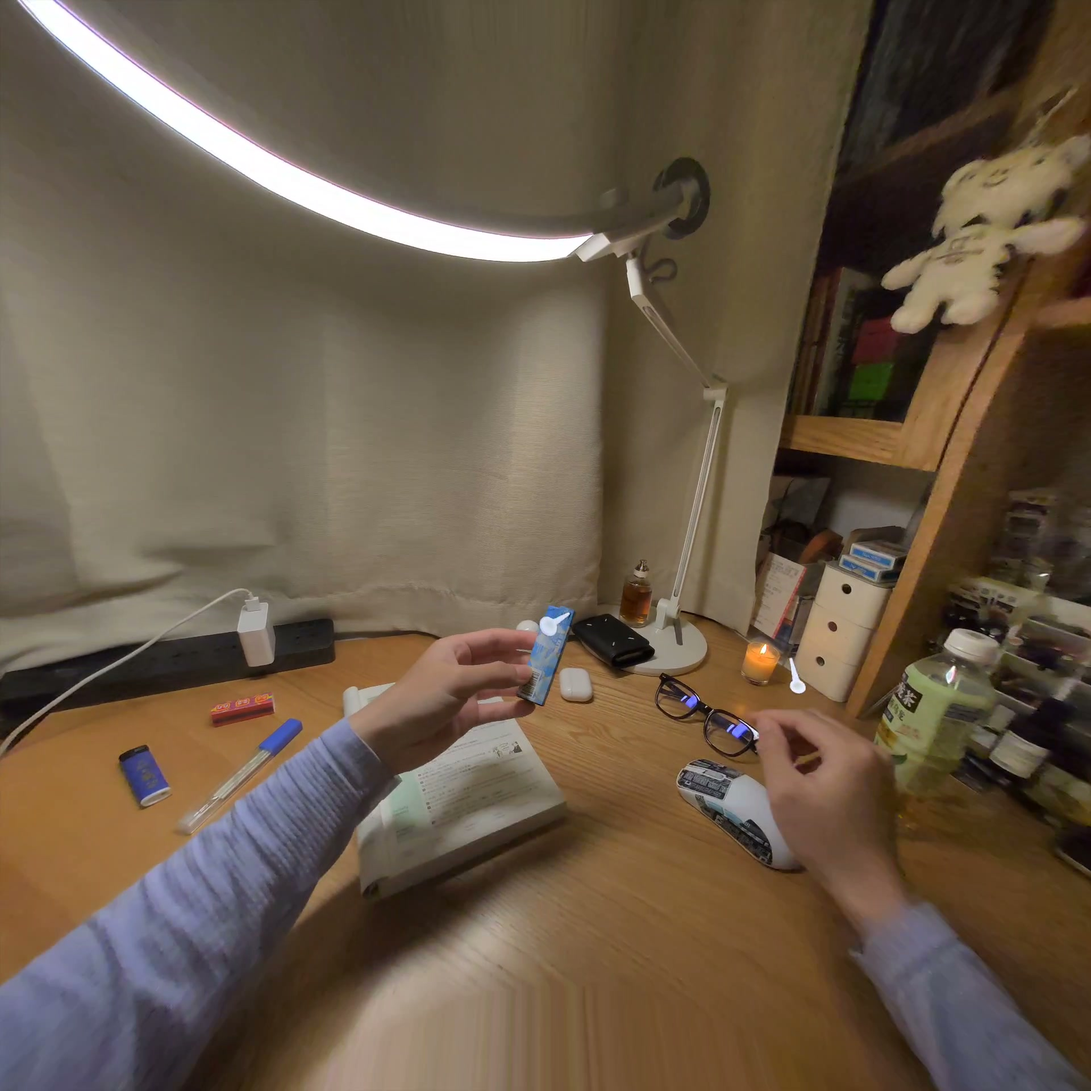lighter: (518, 606, 573, 706)
